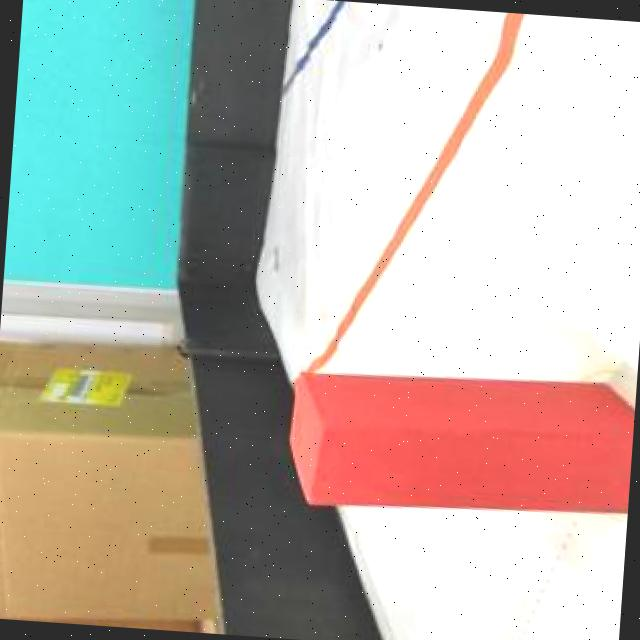redbox: (279, 361, 636, 528)
